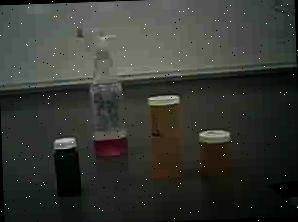Bottle A: (146, 86, 191, 190)
Bottle B: (194, 122, 240, 182)
Bottle C: (50, 132, 86, 202)
hazard: (68, 17, 140, 164)
